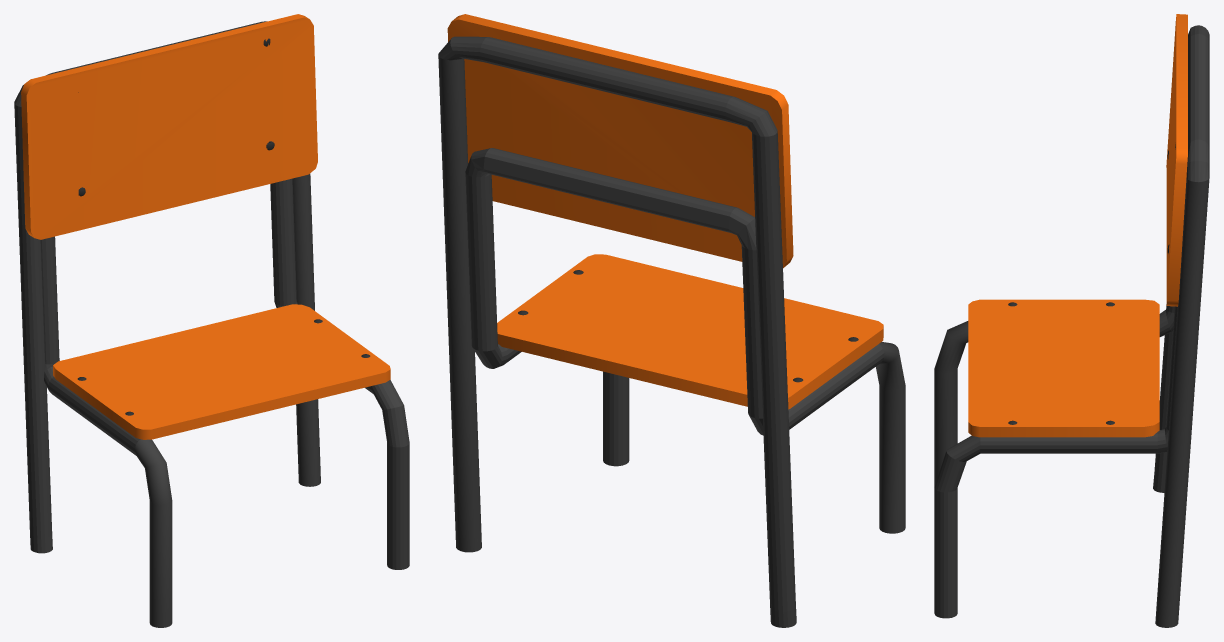
The model's file is Chair.FBX.
3 renders of one model, left to right at view 1: azimuth 30°, elevation 25°; view 2: azimuth 150°, elevation 25°; view 3: azimuth 270°, elevation 25°, orthographic. The views are drawn at different scales.
Parts seen in each view (by area): view 1: Box002, Box001, Cylinder001, Cylinder002; view 2: Box002, Cylinder002, Box001, Cylinder001; view 3: Box001, Cylinder002, Cylinder001, Box002.
Part boxes in pixels (x1=…): Box002: x1=21, y1=14, x2=317, y2=239; Box001: x1=53, y1=304, x2=390, y2=439; Cylinder001: x1=40, y1=178, x2=409, y2=627; Cylinder002: x1=14, y1=21, x2=320, y2=553; Box002: x1=447, y1=14, x2=793, y2=268; Cylinder002: x1=438, y1=36, x2=796, y2=627; Box001: x1=497, y1=254, x2=883, y2=409; Cylinder001: x1=465, y1=148, x2=905, y2=533; Box001: x1=968, y1=299, x2=1159, y2=437; Cylinder002: x1=1153, y1=25, x2=1209, y2=627; Cylinder001: x1=934, y1=178, x2=1186, y2=618; Box002: x1=1166, y1=14, x2=1187, y2=306.
Bounding box in the file's own units: 59.14 × 90.32 × 47.48.
